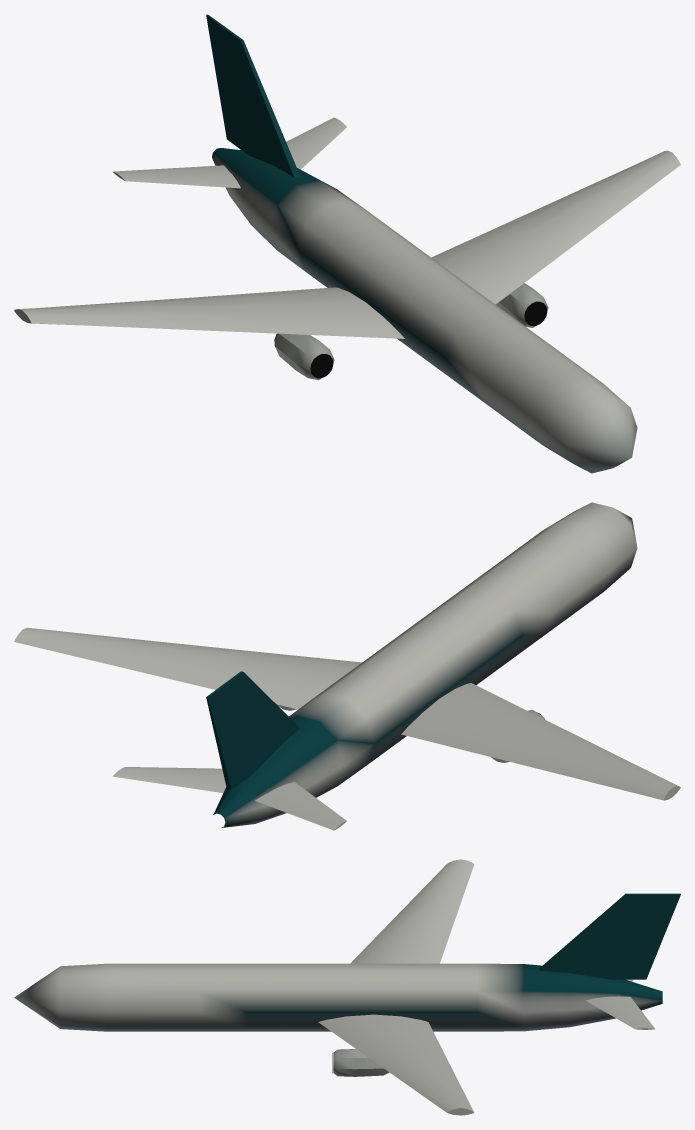
File: ap-aircraft-far.glb
The picture shows the model from 3 angles, top to bottom: view 1: azimuth 30°, elevation 25°; view 2: azimuth 150°, elevation 25°; view 3: azimuth 270°, elevation 25°; orthographic projection. The views are drawn at different scales.
Parts seen in each view (by area): view 1: fuselage__paint, wings__paint, engines__metal, details__paint; view 2: fuselage__paint, wings__paint; view 3: fuselage__paint, wings__paint, engines__metal.
Part boxes in pixels (left/top/right/bottom): fuselage__paint: left=212, top=148, right=637, bottom=473; wings__paint: left=14, top=14, right=680, bottom=338; engines__metal: left=274, top=283, right=548, bottom=380; details__paint: left=310, top=301, right=547, bottom=378; fuselage__paint: left=213, top=502, right=637, bottom=827; wings__paint: left=14, top=627, right=680, bottom=830; fuselage__paint: left=14, top=963, right=662, bottom=1031; wings__paint: left=318, top=859, right=680, bottom=1115; engines__metal: left=333, top=1049, right=389, bottom=1076.
Size of the model in its own units: 34 by 9.01 by 38.55.
